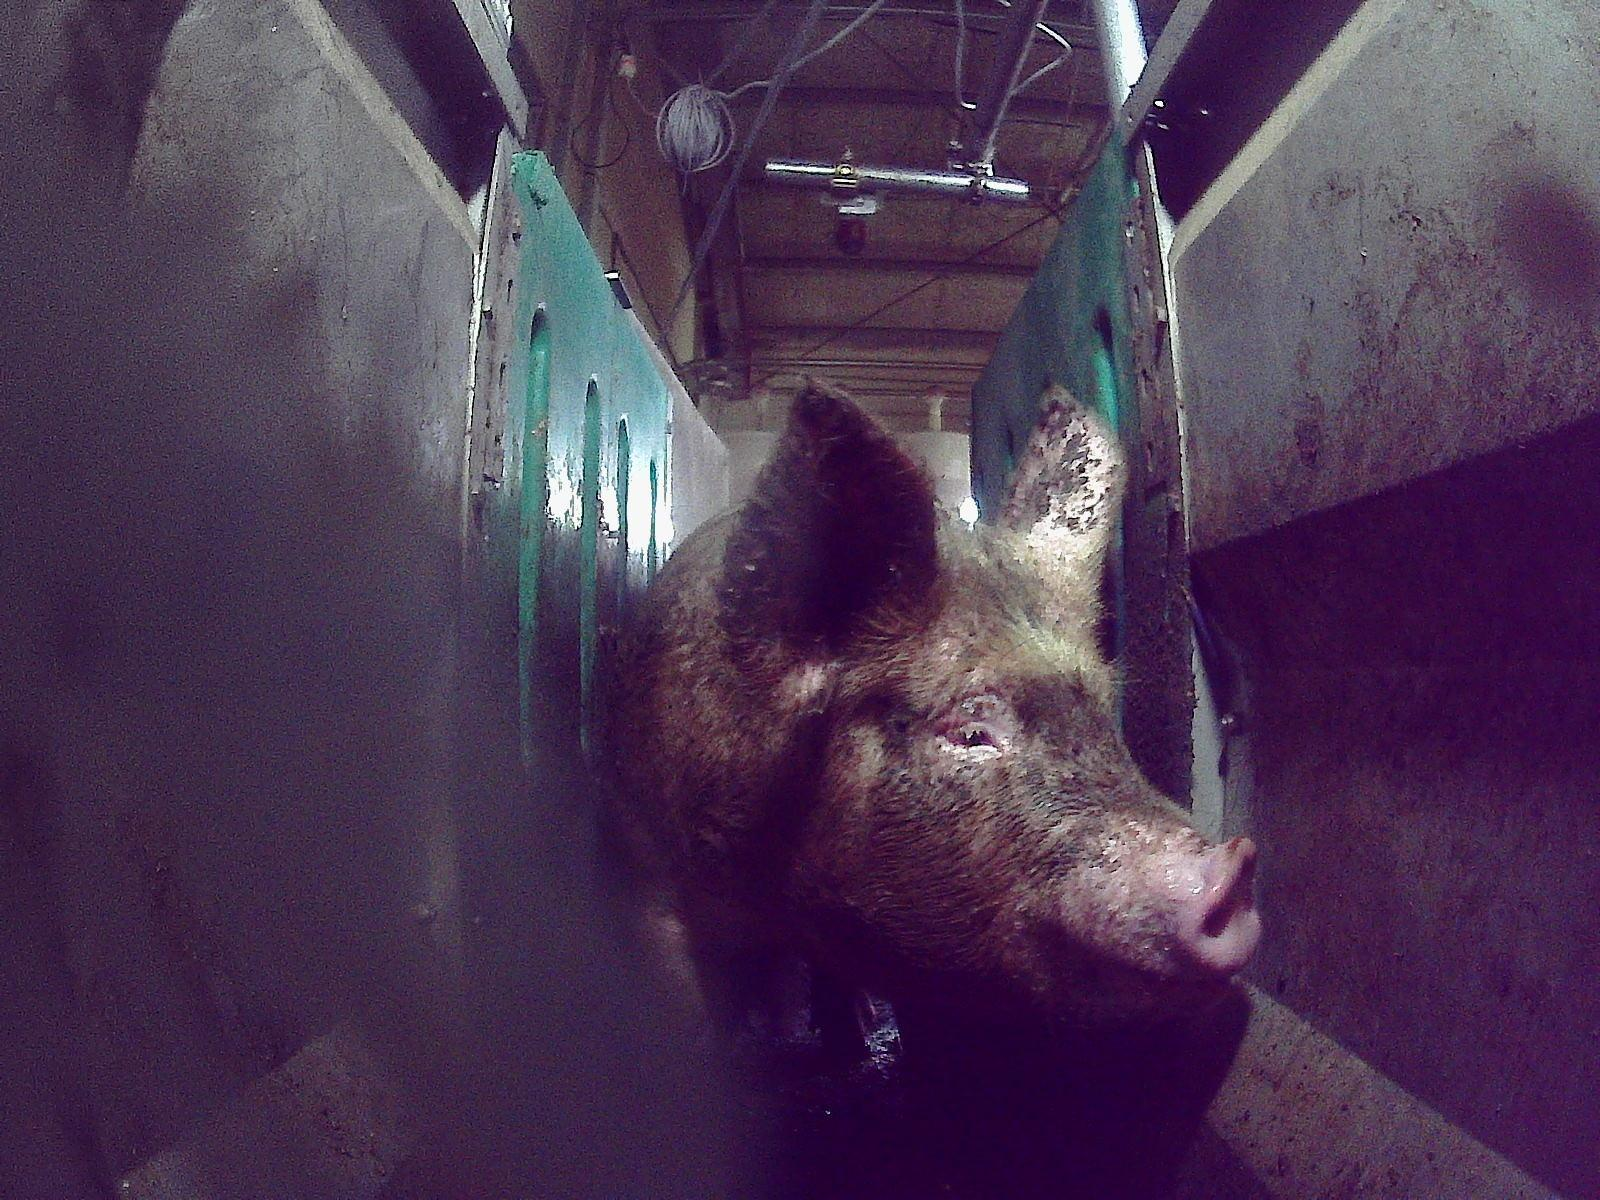Face: (755, 511, 1260, 1018)
